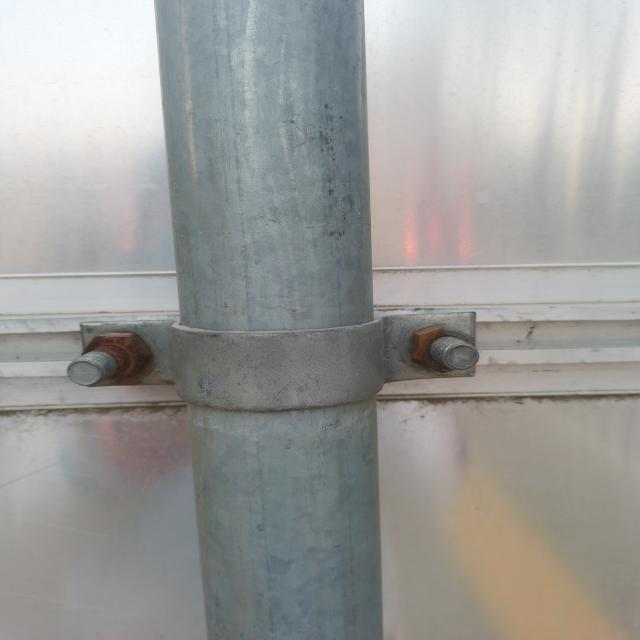bolt nut: (76, 329, 153, 382), (408, 321, 478, 375)
